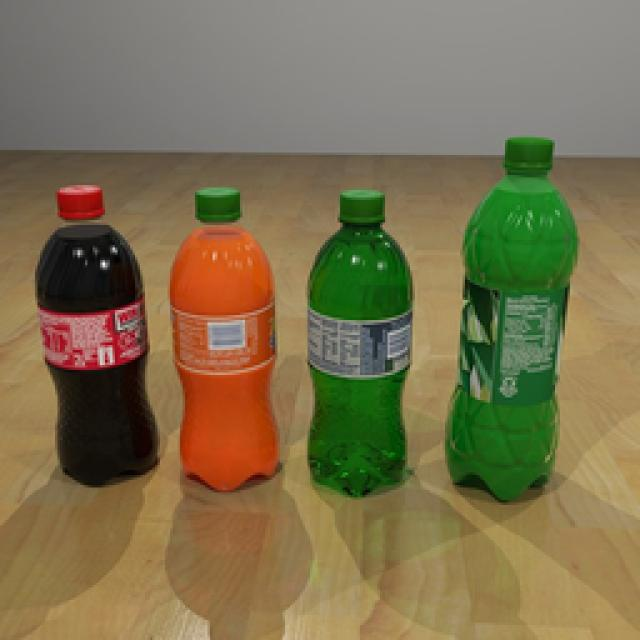plastic_soda_bottles: (448, 134, 578, 504), (32, 178, 170, 487), (163, 184, 284, 490), (303, 184, 411, 491)
